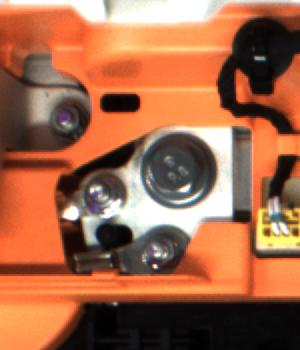nut_b: (133, 127, 231, 217)
